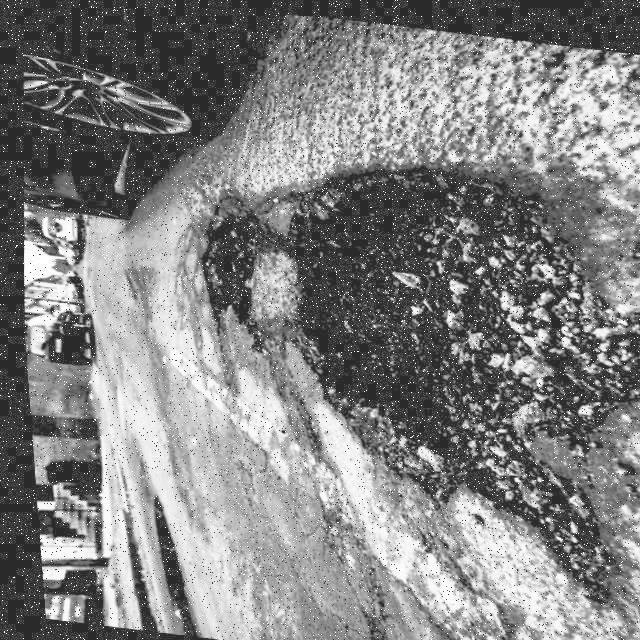Pothole: (155, 122, 640, 592)
